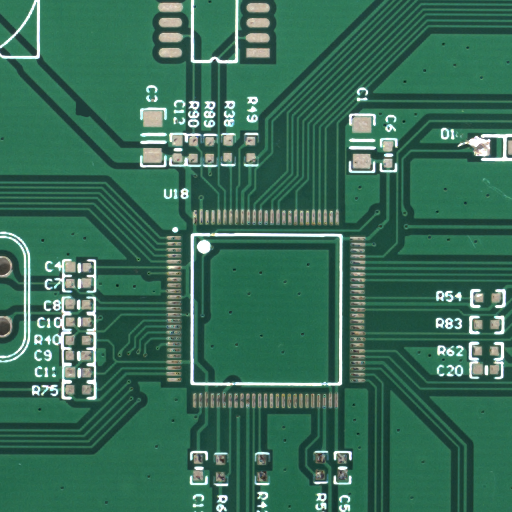Mouse_bite: (81, 108, 102, 133)
